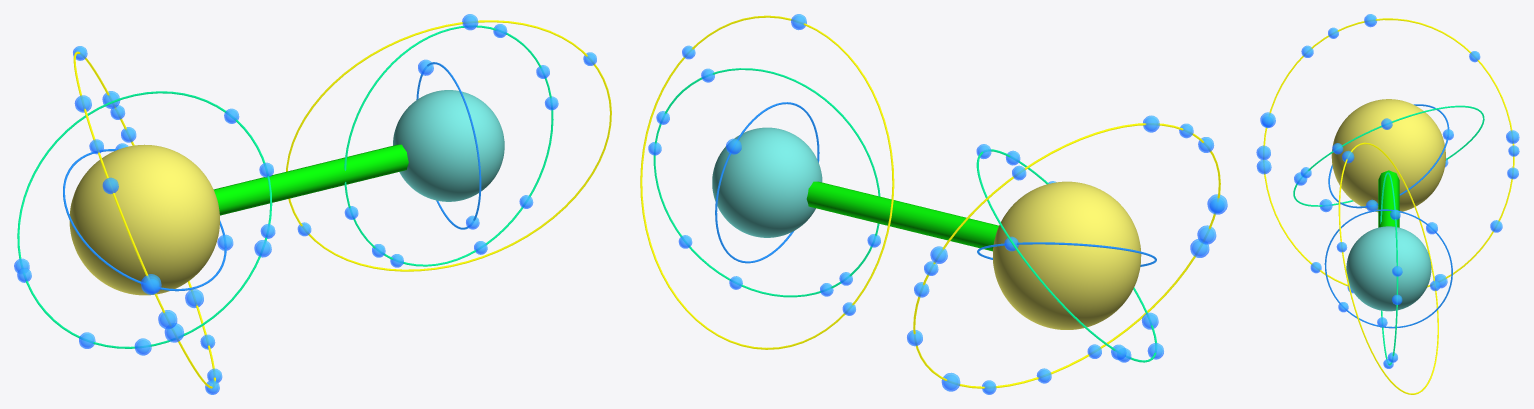
File: FeAl.glb
3 views of the same model, side by side, from view 1: azimuth 30°, elevation 25°; view 2: azimuth 150°, elevation 25°; view 3: azimuth 270°, elevation 25° (orthographic). The views are drawn at different scales.
Visible parts, largest first — view 1: Fe, Al, object 87, object 80, object 7, object 63, object 24, object 2, object 58; view 2: Fe, Al, object 87, object 80, object 24, object 63, object 7, object 58, object 2; view 3: Fe, Al, object 24, object 80, object 87, object 58, object 7, object 63, object 2.
Boxes of the visible parts, x1=… form: Fe: x1=69, y1=144, x2=219, y2=295; Al: x1=393, y1=90, x2=504, y2=201; object 87: x1=213, y1=144, x2=408, y2=215; object 80: x1=286, y1=20, x2=611, y2=271; object 7: x1=17, y1=91, x2=272, y2=348; object 63: x1=344, y1=25, x2=553, y2=266; object 24: x1=73, y1=51, x2=215, y2=388; object 2: x1=63, y1=149, x2=226, y2=291; object 58: x1=416, y1=62, x2=481, y2=229; Fe: x1=993, y1=181, x2=1141, y2=329; Al: x1=712, y1=127, x2=822, y2=237; object 87: x1=806, y1=181, x2=998, y2=251; object 80: x1=640, y1=15, x2=894, y2=349; object 24: x1=913, y1=123, x2=1220, y2=388; object 63: x1=653, y1=68, x2=880, y2=297; object 7: x1=976, y1=149, x2=1156, y2=362; object 58: x1=715, y1=102, x2=819, y2=263; object 2: x1=977, y1=242, x2=1156, y2=266; Fe: x1=1331, y1=99, x2=1445, y2=212; Al: x1=1346, y1=226, x2=1431, y2=311; object 24: x1=1263, y1=18, x2=1514, y2=287; object 80: x1=1338, y1=142, x2=1438, y2=394; object 87: x1=1378, y1=170, x2=1399, y2=227; object 58: x1=1324, y1=209, x2=1452, y2=328; object 7: x1=1293, y1=105, x2=1484, y2=206; object 63: x1=1380, y1=172, x2=1398, y2=365; object 2: x1=1328, y1=104, x2=1449, y2=208.
Bounding box in the file's own units: 8.93 × 4.87 × 4.94.
